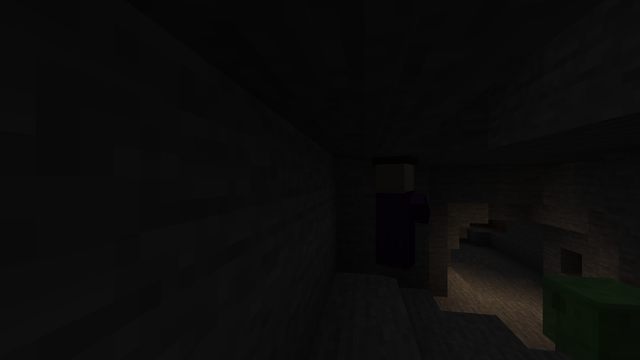slimes: (541, 271, 628, 357)
sorcieres: (376, 158, 417, 283)
